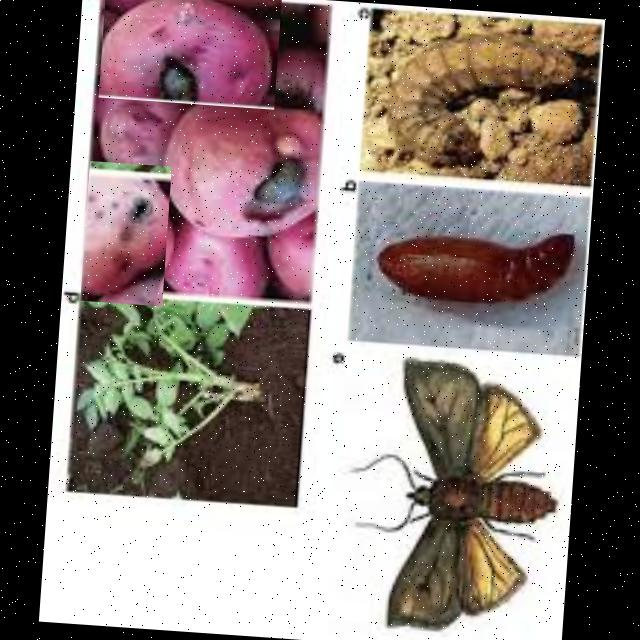Defected potato: (148, 92, 330, 252), (97, 0, 280, 109), (78, 160, 170, 306)
